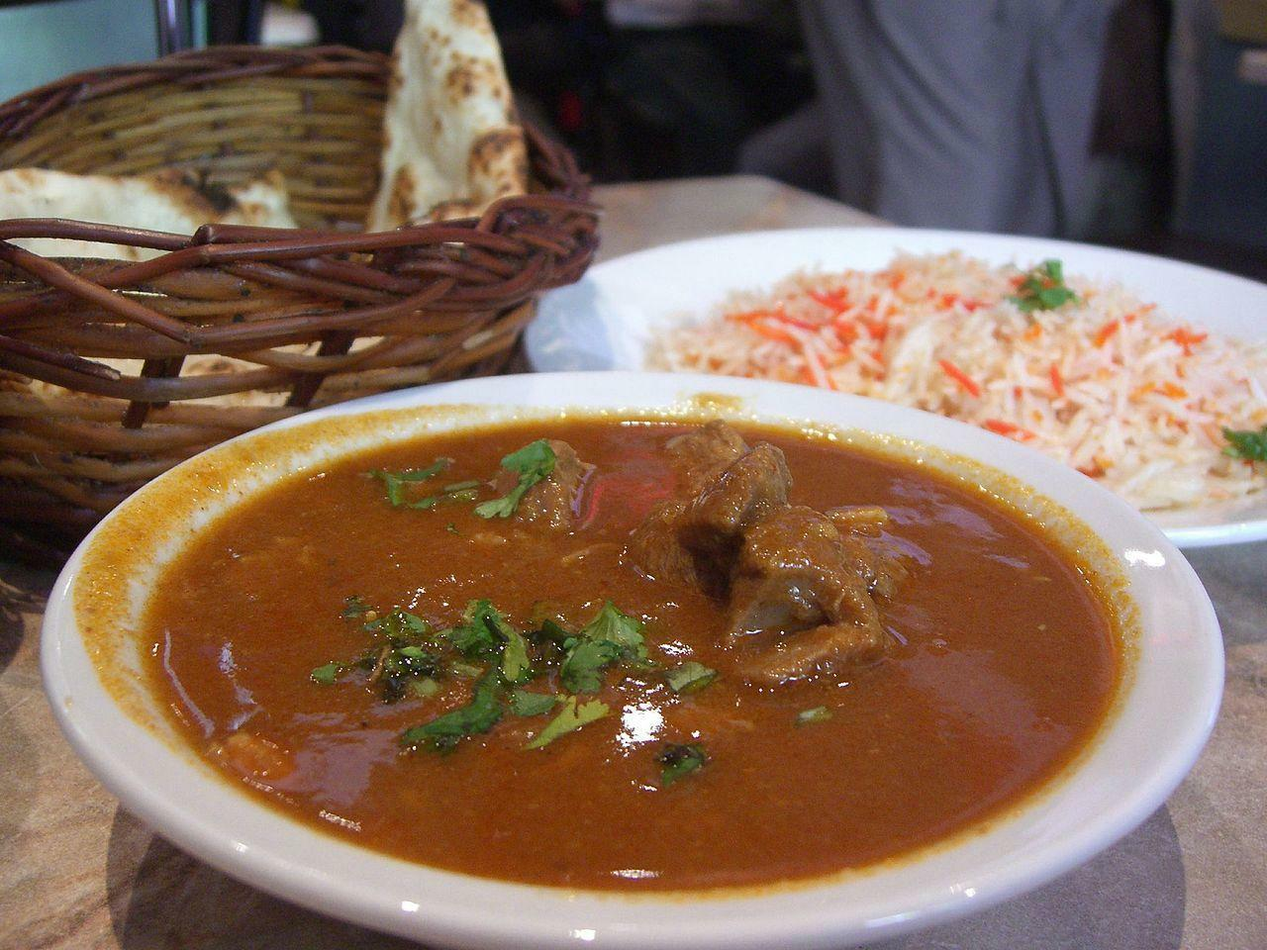Biryani: (644, 249, 1267, 494)
MuttonCurry: (145, 413, 1114, 887)
